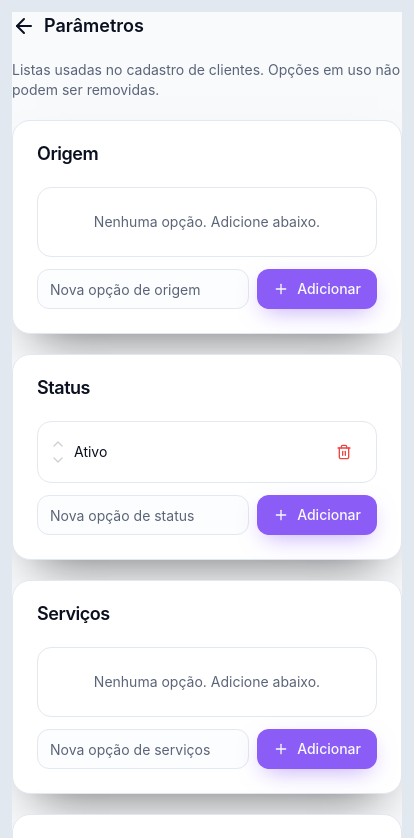
Test: ParametrosPage › lista opções e mostra erro quando remoção é bloqueada
The image size is (414, 838).
Check: the button "Ativo" is shown, box [74,442,316,462]
Click the button named "remover ativo": (344, 452) [324,432,364,472]
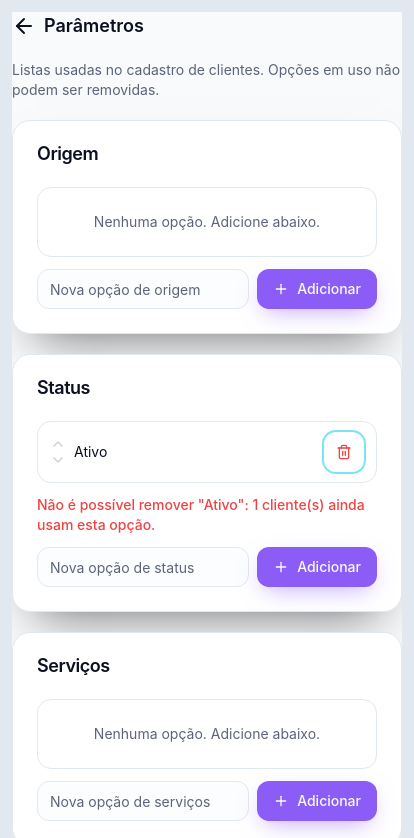
Check: the text "Não é possível remover" is shown, box [37,496,365,533]
